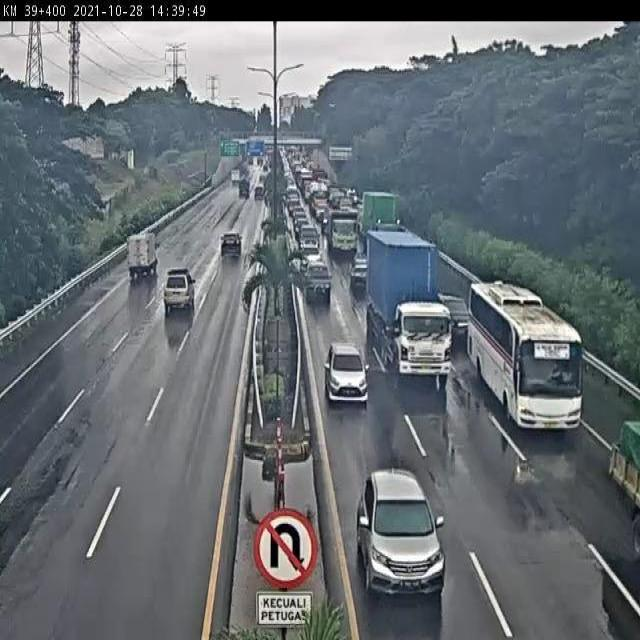car: (356, 468, 447, 596), (324, 343, 369, 401), (162, 267, 198, 315), (440, 288, 471, 339), (300, 256, 333, 299), (295, 222, 320, 254), (217, 231, 244, 260), (346, 249, 363, 287)
truck: (470, 283, 580, 427), (365, 232, 455, 380), (125, 229, 160, 283), (322, 207, 358, 252)
